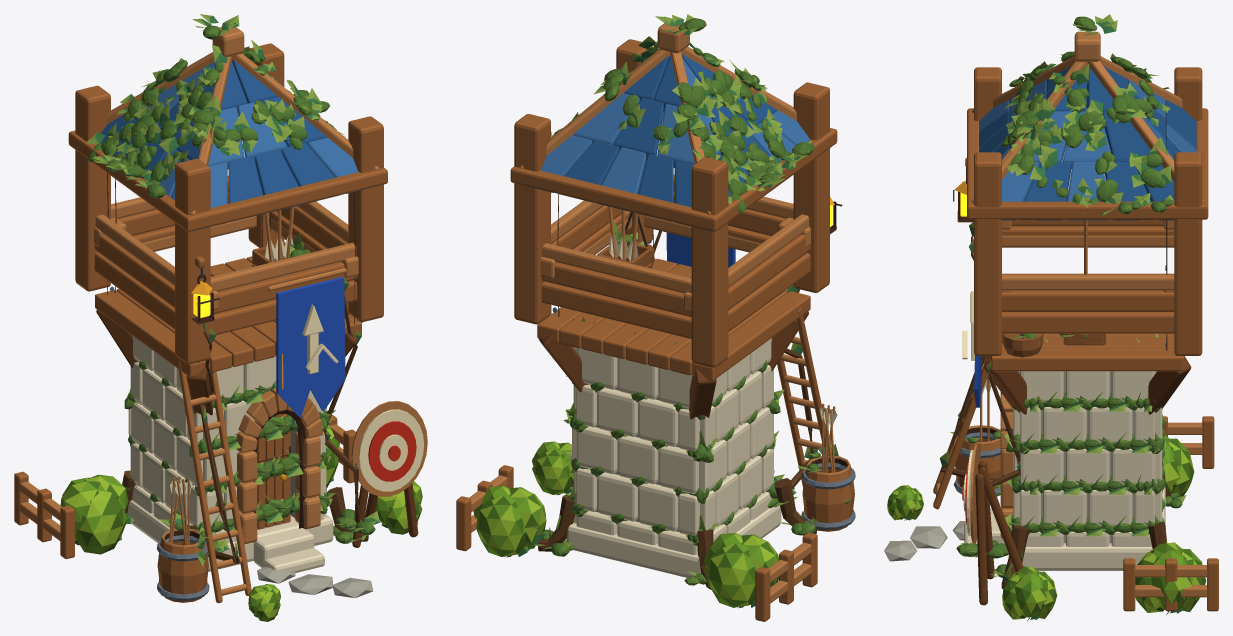
File: arrow_tower.glb
3 renders of one model, left to right at view 1: azimuth 30°, elevation 25°; view 2: azimuth 150°, elevation 25°; view 3: azimuth 270°, elevation 25°, orthographic. The views are drawn at different scales.
Parts seen in each view (by area): view 1: Cloth heraldic banner, Lookout upright.002, Lookout upright, Lookout upright.001, Roof eave beam, Upper lookout deck plank, Lookout railing.001, Leaf cluster.004, Projecting tower foundation, Lookout front parapet plank.001, Open barrel staves.001, Target ring.006 (+63 smaller); view 2: Lookout upright.001, Lookout upright.003, Lookout upright, Projecting tower foundation, Roof eave beam.002, Lookout rear parapet plank, Lookout rear parapet plank.001, Upper lookout deck plank, Leaf cluster.007, Lookout railing.003, Leaf cluster.011, Open barrel staves.001 (+75 smaller); view 3: Lookout upright.003, Lookout upright.002, Upper lookout deck plank.007, Lookout side parapet plank.001, Lookout side parapet plank.003, Roof eave beam.001, Lookout railing.007, Projecting tower foundation, Lookout railing.004, Lookout side parapet plank, Dressed limestone.059, Dressed limestone.029 (+68 smaller).
Boxes of the visible parts, x1,y1,x2,y2 form: Cloth heraldic banner: (276, 277, 345, 417); Lookout upright.002: (348, 116, 383, 322); Lookout upright: (175, 158, 210, 364); Lookout upright.001: (75, 85, 110, 291); Roof eave beam: (182, 167, 387, 231); Upper lookout deck plank: (95, 290, 210, 377); Lookout railing.001: (210, 242, 356, 291); Leaf cluster.004: (76, 491, 127, 554); Projecting tower foundation: (126, 500, 333, 571); Lookout front parapet plank.001: (210, 261, 357, 314); Open barrel staves.001: (157, 539, 208, 602); Target ring.006: (358, 409, 423, 491); Lookout upright.001: (691, 157, 728, 367); Lookout upright.003: (514, 114, 550, 324); Lookout upright: (793, 82, 829, 292); Projecting tower foundation: (566, 501, 781, 577); Roof eave beam.002: (510, 168, 720, 231); Lookout rear parapet plank: (541, 281, 691, 338); Lookout rear parapet plank.001: (541, 262, 691, 316); Upper lookout deck plank: (692, 291, 810, 380); Leaf cluster.007: (704, 543, 755, 607); Lookout railing.003: (542, 243, 691, 293); Leaf cluster.011: (476, 496, 526, 556); Open barrel staves.001: (802, 466, 854, 531); Lookout upright.003: (1174, 152, 1202, 355); Lookout upright.002: (974, 152, 1001, 355); Upper lookout deck plank.007: (991, 348, 1183, 371); Lookout side parapet plank.001: (1002, 312, 1174, 333); Lookout side parapet plank.003: (1002, 290, 1174, 311); Roof eave beam.001: (967, 201, 1207, 219); Lookout railing.007: (1002, 274, 1174, 290); Projecting tower foundation: (1022, 487, 1165, 570); Lookout railing.004: (1002, 235, 1174, 247); Lookout side parapet plank: (1002, 226, 1174, 247); Dressed limestone.059: (1088, 407, 1132, 443); Dressed limestone.029: (1088, 490, 1132, 526).
Bounding box in the file's own units: 3.72 × 5.91 × 3.39.
44 materials, 8 textured.
